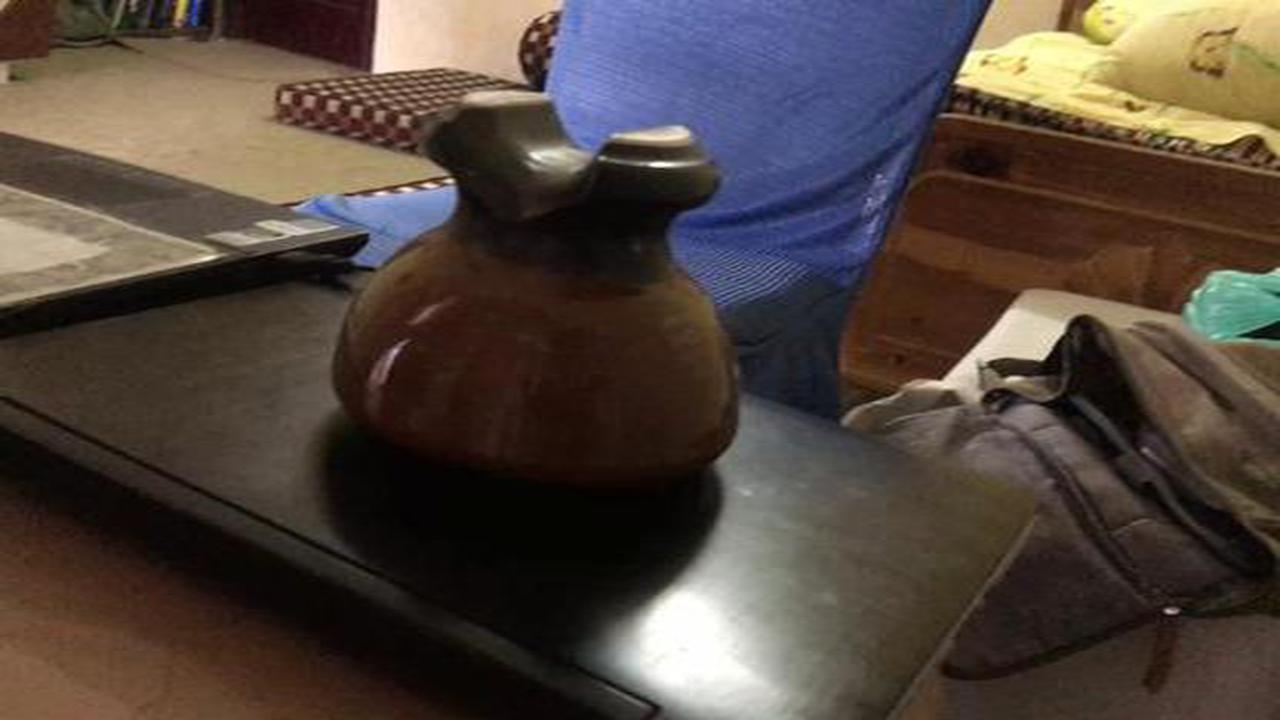insulator_pin: (304, 73, 779, 515)
